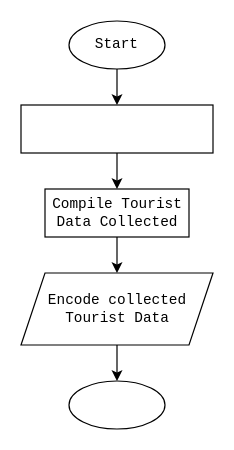
Some shapes in this 234 by 450 pixel diagram are drawn without their labels. Each missing label, with the box of its shape:
Collect Tourist Data Manually: (20, 104, 213, 153)
End: (68, 380, 165, 429)
